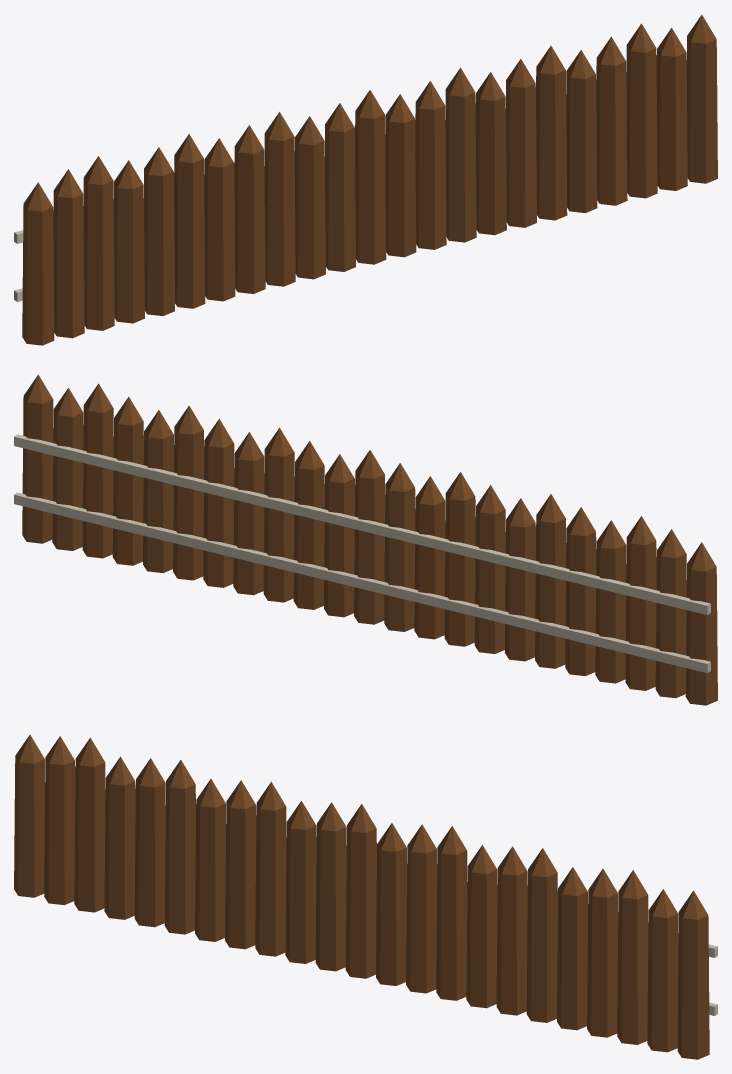
File: centaur_wall_broken.glb
3 renders of one model, top to bottom at view 1: azimuth 30°, elevation 25°; view 2: azimuth 150°, elevation 25°; view 3: azimuth 330°, elevation 25°, orthographic.
Visible parts, largest first — view 1: centaur_wall_piece1, centaur_wall_piece2, centaur_wall_piece9, centaur_wall_piece5, centaur_wall_piece6, centaur_wall_piece3, centaur_wall_piece10, centaur_wall_piece8, centaur_wall_piece0, centaur_wall_piece13, centaur_wall_piece4, centaur_wall_piece12; view 2: centaur_wall_piece2, centaur_wall_piece9, centaur_wall_piece4, centaur_wall_piece1, centaur_wall_piece6, centaur_wall_piece3, centaur_wall_piece7, centaur_wall_piece5, centaur_wall_piece12, centaur_wall_piece10, centaur_wall_piece13, centaur_wall_piece8 (+2 smaller); view 3: centaur_wall_piece2, centaur_wall_piece1, centaur_wall_piece9, centaur_wall_piece6, centaur_wall_piece5, centaur_wall_piece3, centaur_wall_piece10, centaur_wall_piece8, centaur_wall_piece0, centaur_wall_piece13, centaur_wall_piece4, centaur_wall_piece12.
Part boxes in pixels (box(x1,y1,x2,y2)): centaur_wall_piece1: box(14, 156, 186, 345); centaur_wall_piece2: box(475, 36, 627, 233); centaur_wall_piece9: box(626, 14, 717, 198); centaur_wall_piece5: box(162, 134, 295, 308); centaur_wall_piece6: box(365, 67, 498, 242); centaur_wall_piece3: box(260, 192, 445, 291); centaur_wall_piece10: box(216, 125, 349, 219); centaur_wall_piece8: box(196, 178, 355, 307); centaur_wall_piece0: box(353, 115, 460, 241); centaur_wall_piece13: box(265, 97, 372, 181); centaur_wall_piece4: box(113, 147, 179, 310); centaur_wall_piece12: box(385, 172, 459, 244); centaur_wall_piece2: box(99, 396, 264, 594); centaur_wall_piece9: box(14, 374, 113, 558); centaur_wall_piece4: box(513, 507, 661, 696); centaur_wall_piece1: box(592, 516, 717, 705); centaur_wall_piece6: box(245, 427, 376, 595); centaur_wall_piece3: box(316, 551, 493, 653); centaur_wall_piece7: box(602, 520, 708, 696); centaur_wall_piece5: box(461, 494, 566, 645); centaur_wall_piece12: box(264, 519, 365, 609); centaur_wall_piece10: box(414, 485, 522, 587); centaur_wall_piece13: box(355, 459, 472, 535); centaur_wall_piece8: box(397, 542, 535, 660); centaur_wall_piece2: box(467, 845, 618, 1037); centaur_wall_piece1: box(14, 734, 167, 929); centaur_wall_piece9: box(617, 870, 717, 1059); centaur_wall_piece6: box(349, 804, 474, 1006); centaur_wall_piece5: box(139, 760, 275, 933); centaur_wall_piece3: box(238, 892, 425, 993); centaur_wall_piece10: box(209, 779, 327, 894); centaur_wall_piece8: box(173, 875, 339, 948); centaur_wall_piece0: box(333, 838, 439, 996); centaur_wall_piece13: box(260, 781, 354, 888); centaur_wall_piece4: box(128, 758, 165, 923); centaur_wall_piece12: box(371, 905, 438, 995).
Bounding box in the file's own units: 6.25 × 1.45 × 0.2706.
